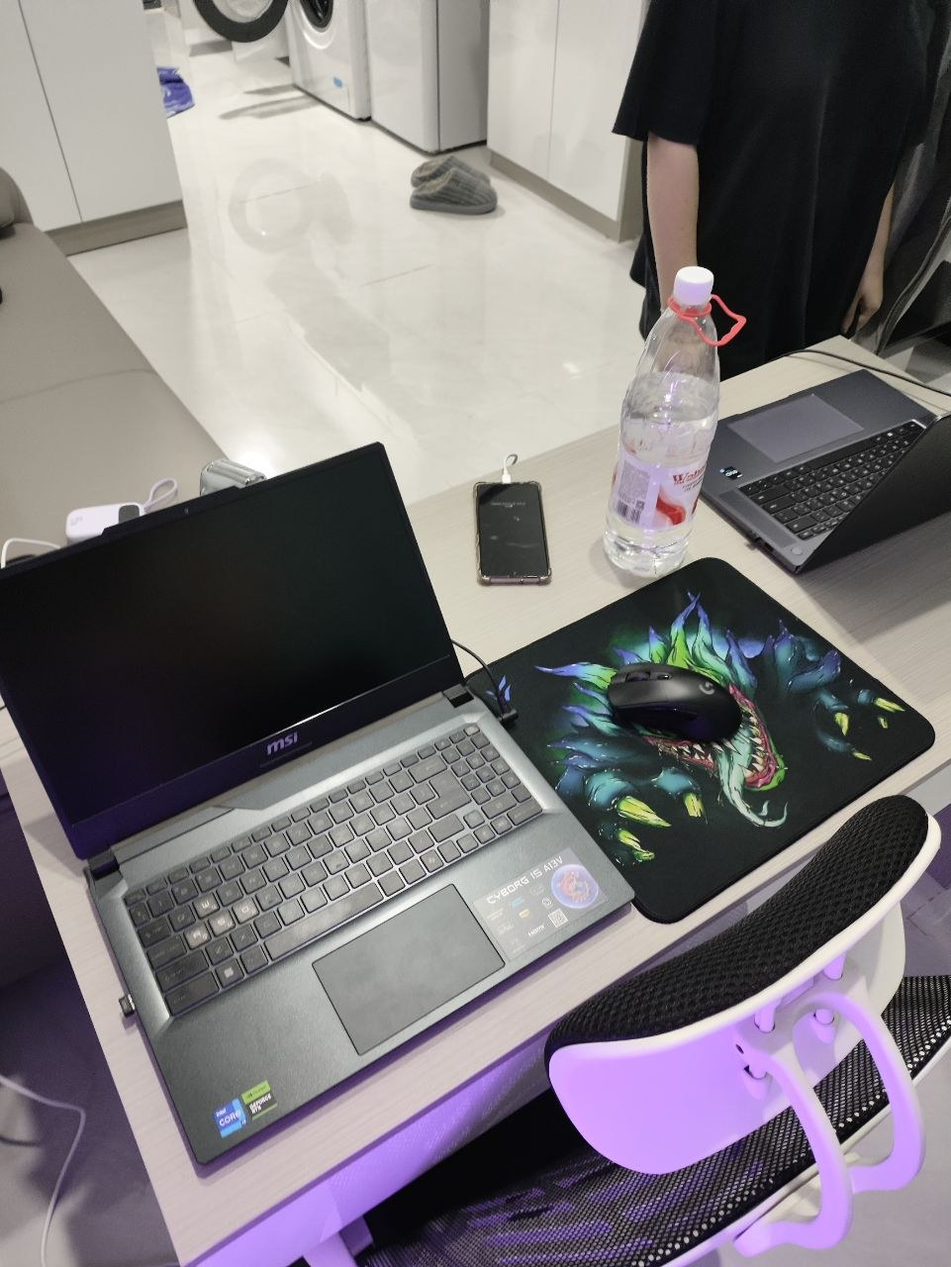cell phone: (473, 479, 552, 584)
laptop: (0, 440, 636, 1171), (699, 366, 950, 575)
